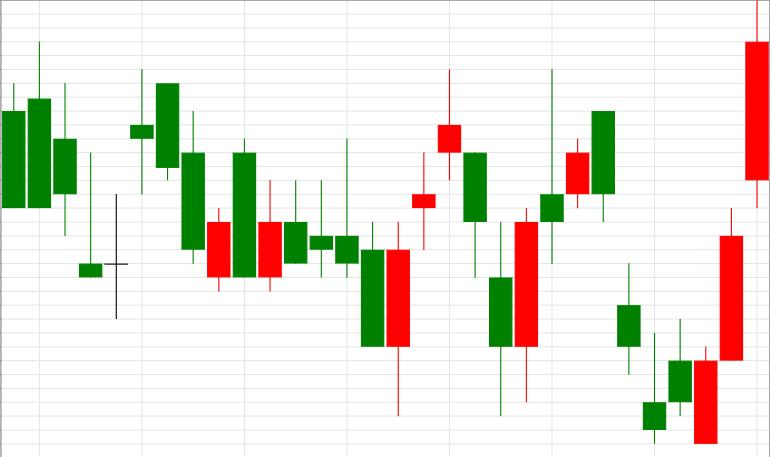bearish_engulfing_fall: (515, 68, 615, 402)
bullish_engulfing_rise: (284, 137, 411, 416)
three_white_soldiers_rise: (591, 0, 769, 444)
